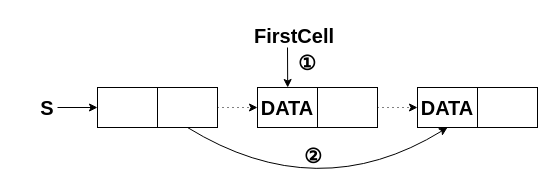
Image size: 555x194. Some labels were removed from this diagram. Here are the shapes that lost their labels. From the top down, the centre of each, then its label:
the point at 127,107: DATA (不存数据)
the point at 507,107: NULL
